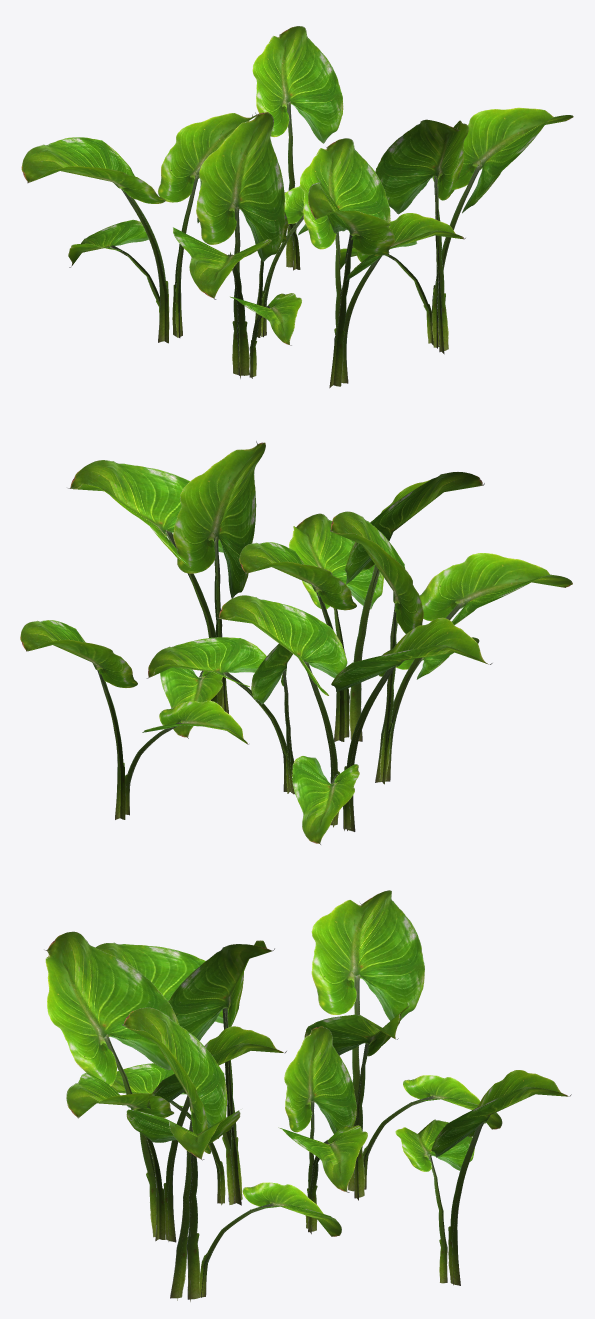
The model's file is Plant_waterLilly002.fbx.
3 renders of one model, top to bottom at view 1: azimuth 30°, elevation 25°; view 2: azimuth 150°, elevation 25°; view 3: azimuth 270°, elevation 25°, orthographic. The views are drawn at different scales.
Visible parts, largest first — view 1: Plant_waterLilly002; view 2: Plant_waterLilly002; view 3: Plant_waterLilly002.
Boxes of the visible parts, x1,y1,x2,y2 form: Plant_waterLilly002: (21, 26, 573, 388); Plant_waterLilly002: (20, 441, 572, 844); Plant_waterLilly002: (44, 890, 571, 1301).
Size of the model in its own units: 221 by 116 by 201.
